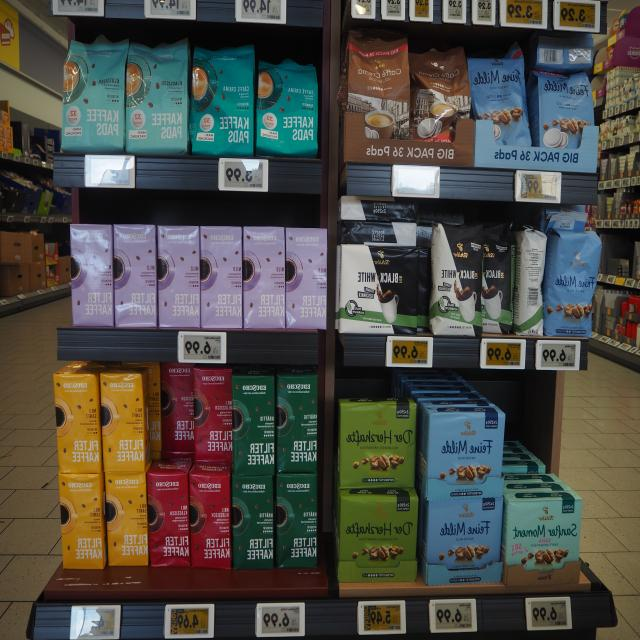BW Bohne: (429, 222, 487, 336), (482, 222, 518, 336)
BW Gemahlen: (337, 244, 422, 338)
CC Vollmundig: (344, 32, 412, 163), (408, 40, 471, 158)
Empty Shelf: (503, 411, 587, 500)
FM 36 Pads: (468, 44, 530, 157), (529, 65, 599, 164)
FM Bohne: (540, 222, 608, 340)
FM Gemahlen: (425, 410, 509, 500)
Herzhatfe Mundig: (336, 492, 422, 578), (338, 400, 418, 490)
SM Gemahlen: (506, 499, 583, 580)
